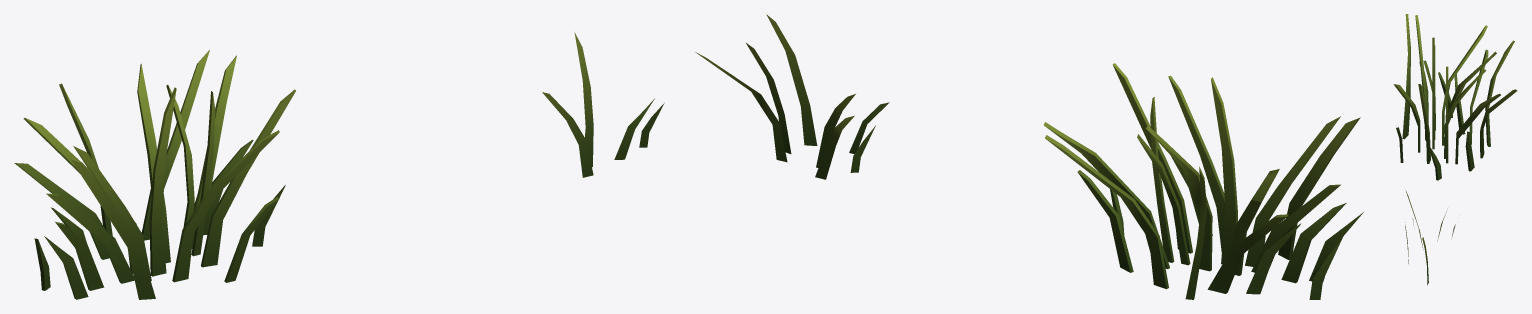
The model's file is grass_bush.glb.
3 views of the same model, side by side, from view 1: azimuth 30°, elevation 25°; view 2: azimuth 150°, elevation 25°; view 3: azimuth 270°, elevation 25° (orthographic). The views are drawn at different scales.
Visible parts, largest first — view 1: Grass_Large_Extruded, Grass_Small; view 2: Grass_Large_Extruded, Grass_Small; view 3: Grass_Large_Extruded, Grass_Small.
Part boxes in pixels (left/top/right/bottom): Grass_Large_Extruded: left=14, top=50, right=295, bottom=299; Grass_Small: left=542, top=32, right=664, bottom=177; Grass_Large_Extruded: left=1044, top=63, right=1363, bottom=299; Grass_Small: left=695, top=14, right=889, bottom=179; Grass_Large_Extruded: left=1393, top=14, right=1517, bottom=180; Grass_Small: left=1405, top=190, right=1455, bottom=285.
Size of the model in its own units: 1.84 by 0.5112 by 0.4973.
Materials: 1 (1 with a texture image).
